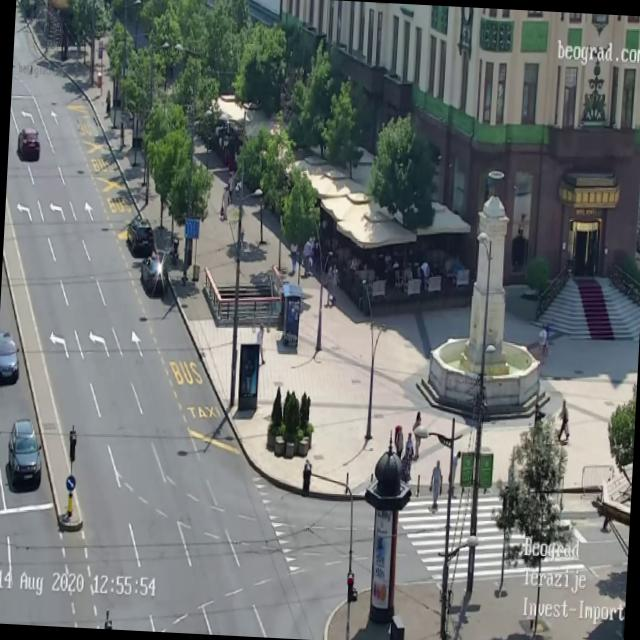car: (6, 416, 44, 489), (141, 252, 171, 296), (125, 215, 155, 257), (0, 330, 20, 385), (17, 126, 41, 162)
